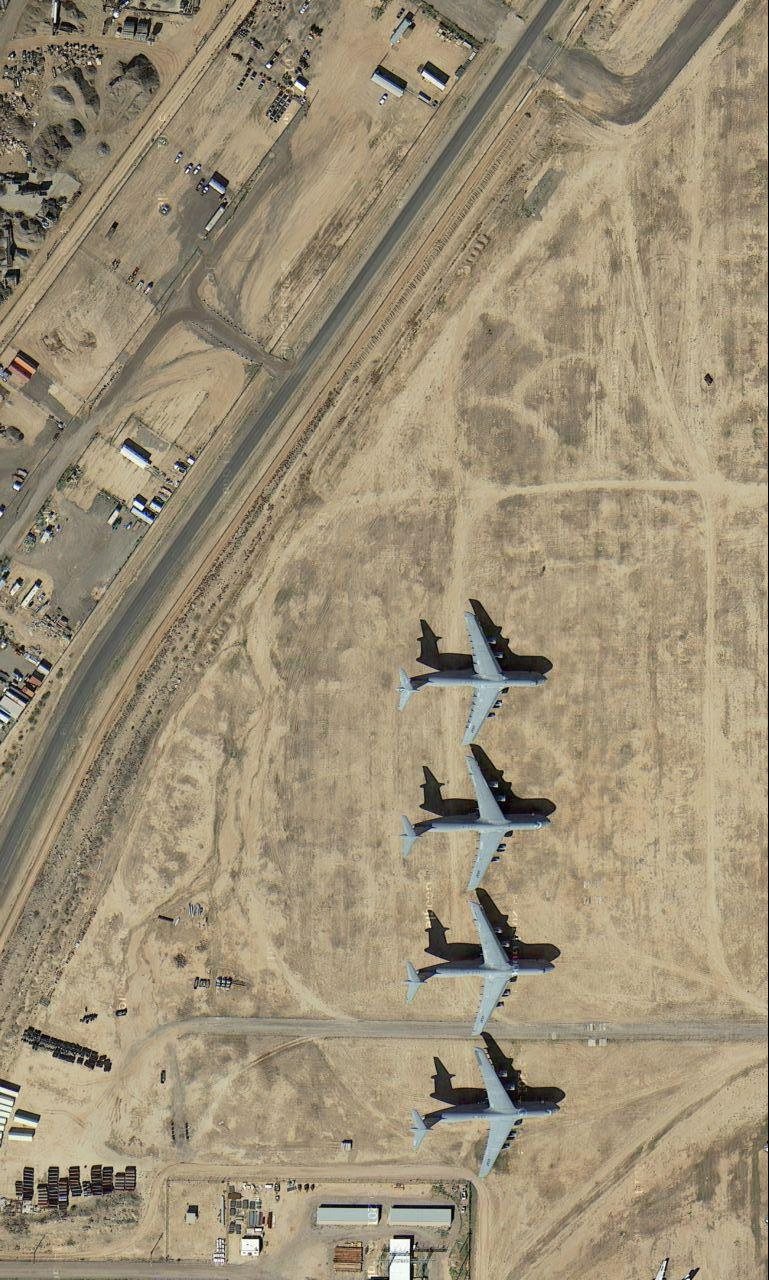KC-135: (399, 902, 562, 1042), (407, 1045, 566, 1185), (391, 607, 549, 747), (399, 755, 554, 897)
